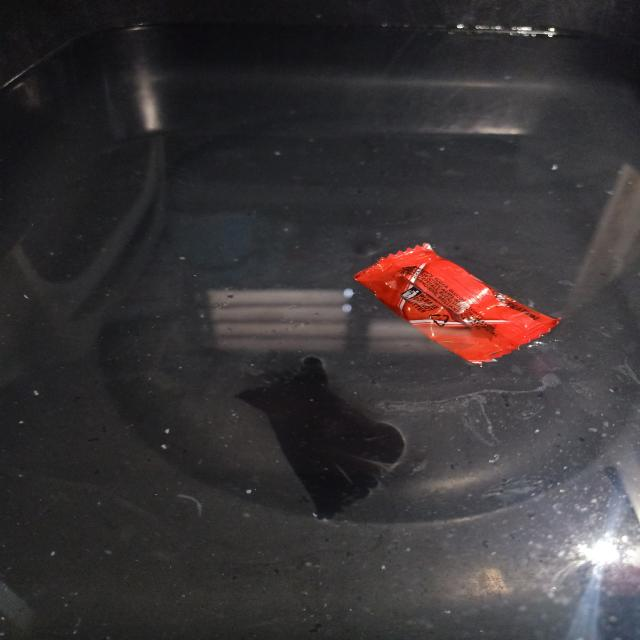Plastic Wrapper: (354, 243, 560, 365)
